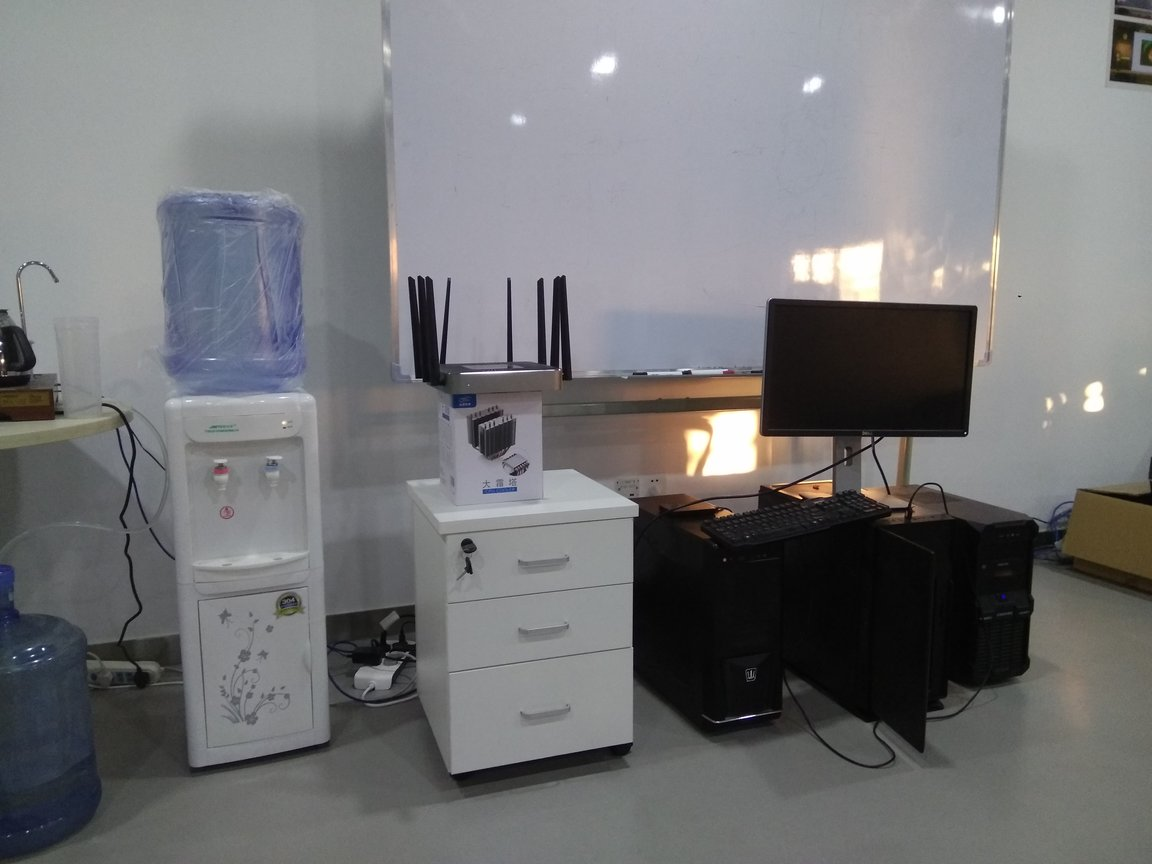computer: (762, 477, 951, 754), (625, 492, 791, 743), (881, 476, 1033, 699)
drawer chest: (405, 468, 646, 781)
monitor: (761, 289, 971, 501)
scuttlebutt: (1, 560, 120, 859), (148, 184, 310, 394)
water dispenser: (161, 391, 339, 771)
